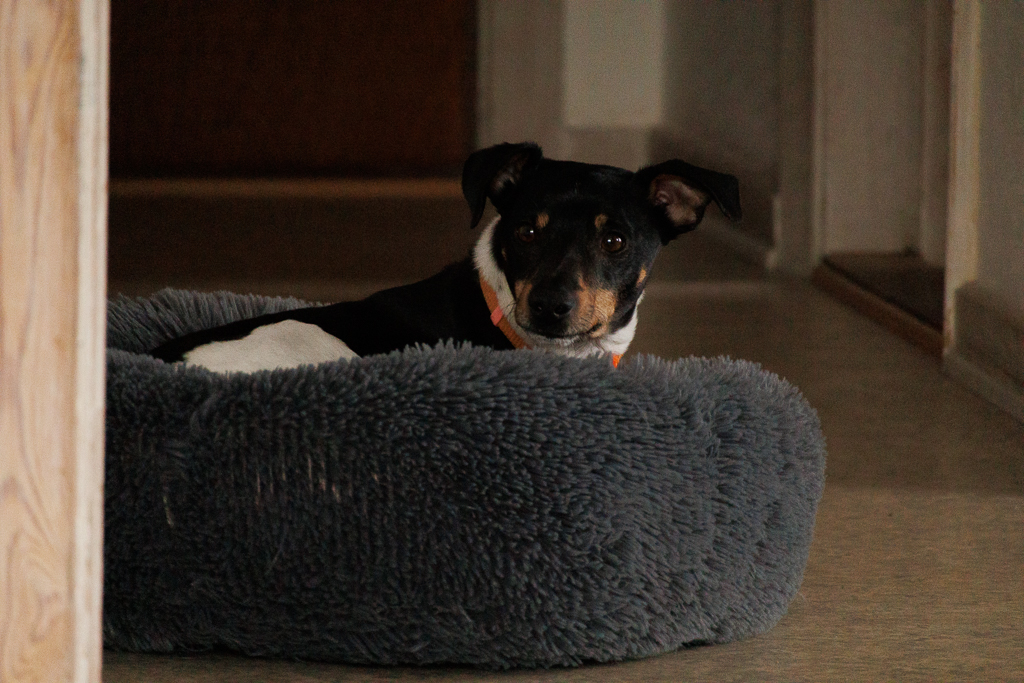Dog: (121, 134, 750, 392)
